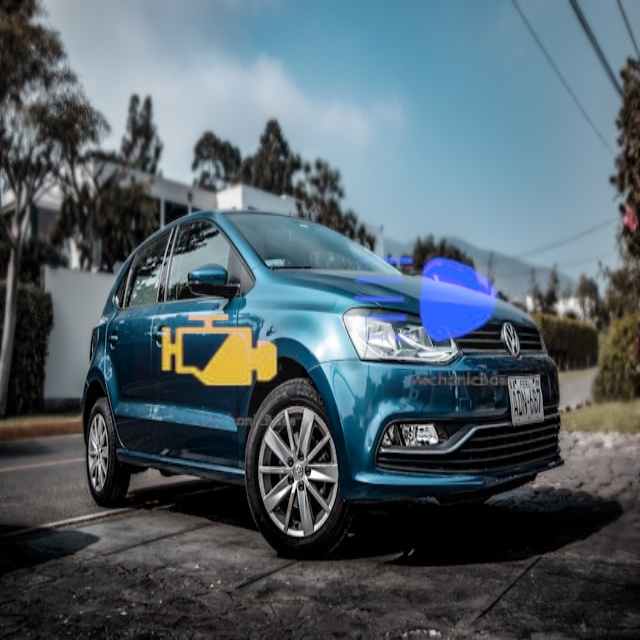symbol: (333, 206, 522, 395), (135, 267, 302, 434)
